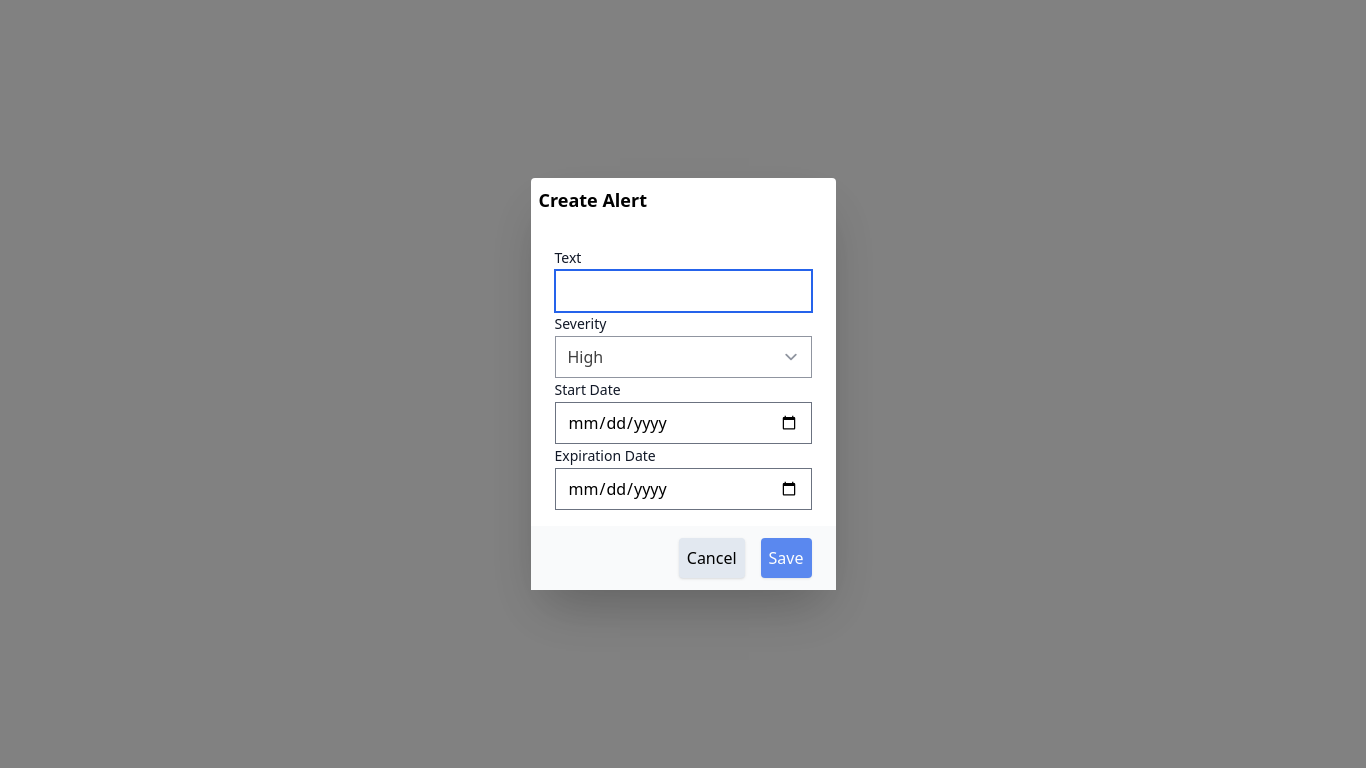
Test: CreateAlertModal › when modal closes then form is reset
Step 1. Type "bob" into the field named "text" → [683, 291], box [554, 270, 812, 312]
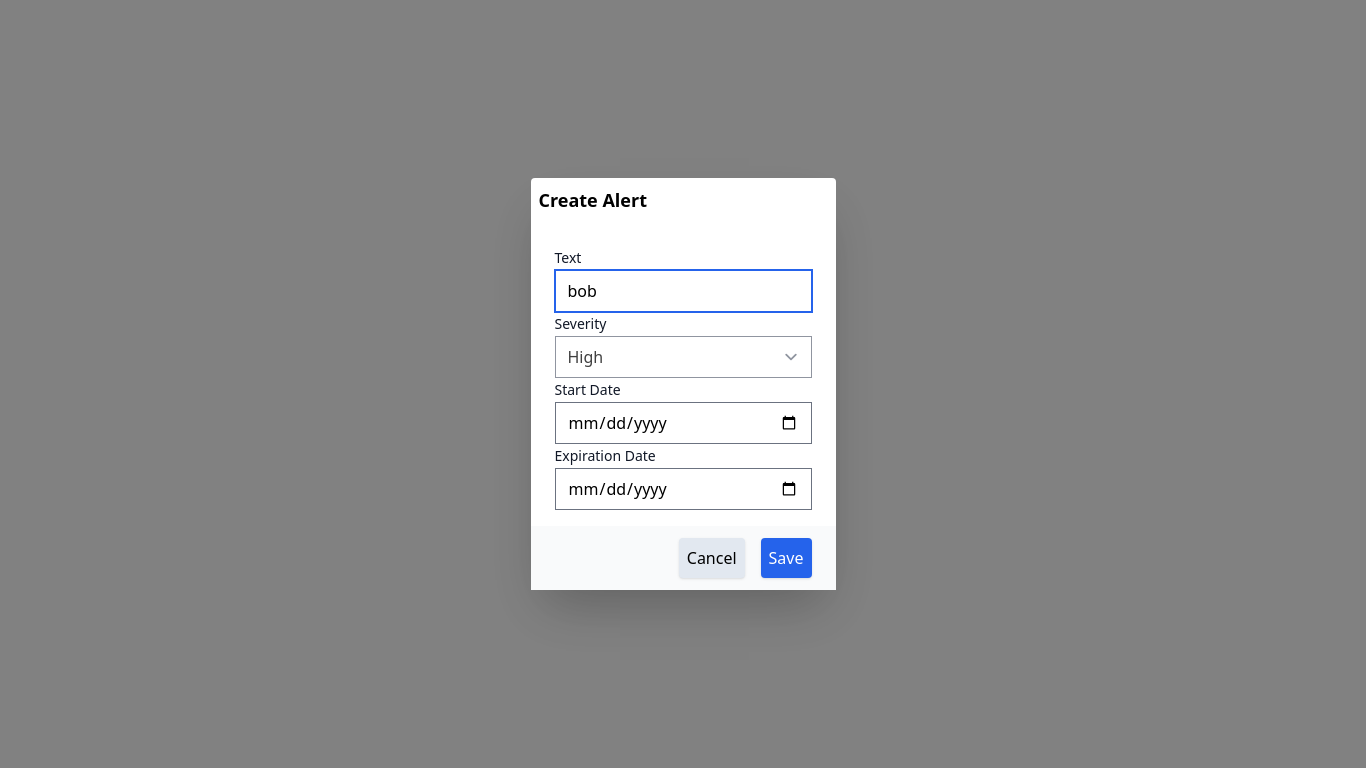
Step 2. Click the button with aria-label "cancel button" → [712, 558], box [679, 538, 745, 578]
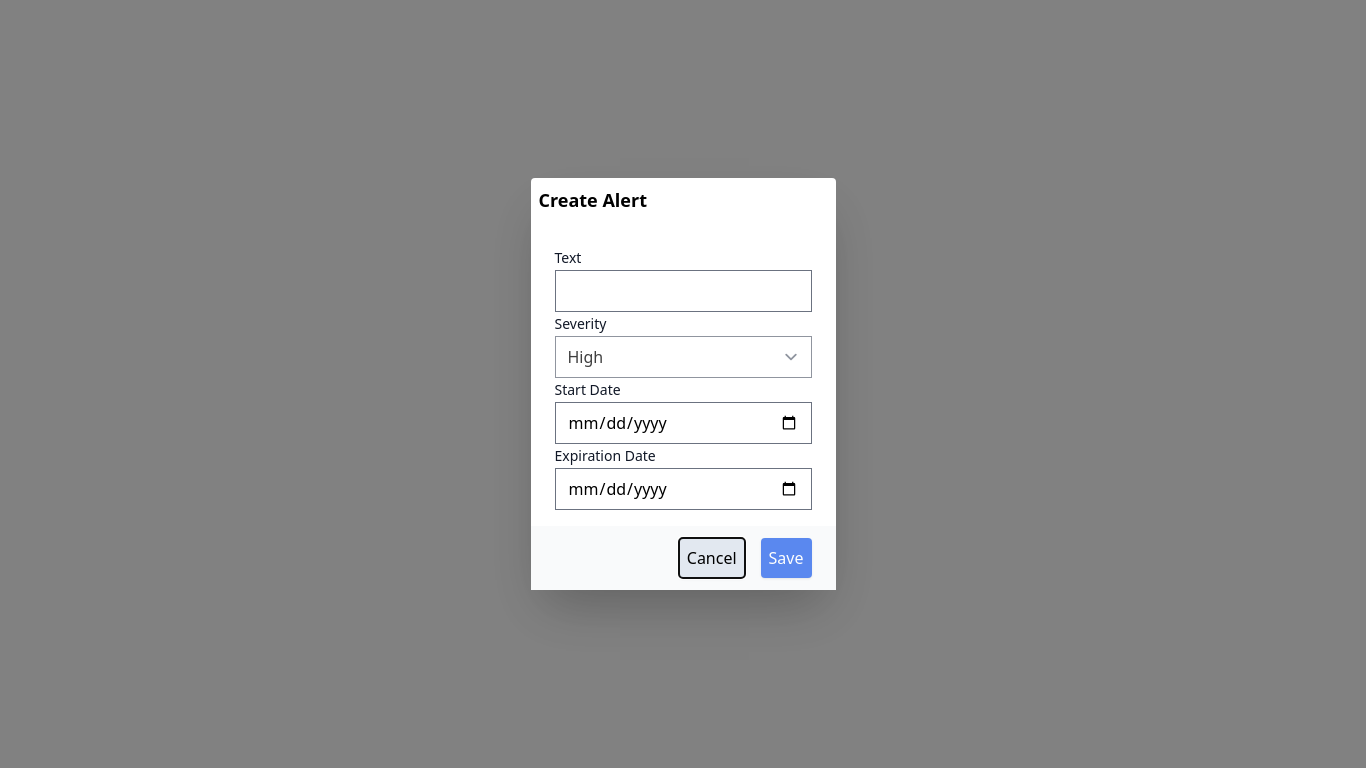
Check: the field named "text" is empty, box [554, 270, 812, 312]
